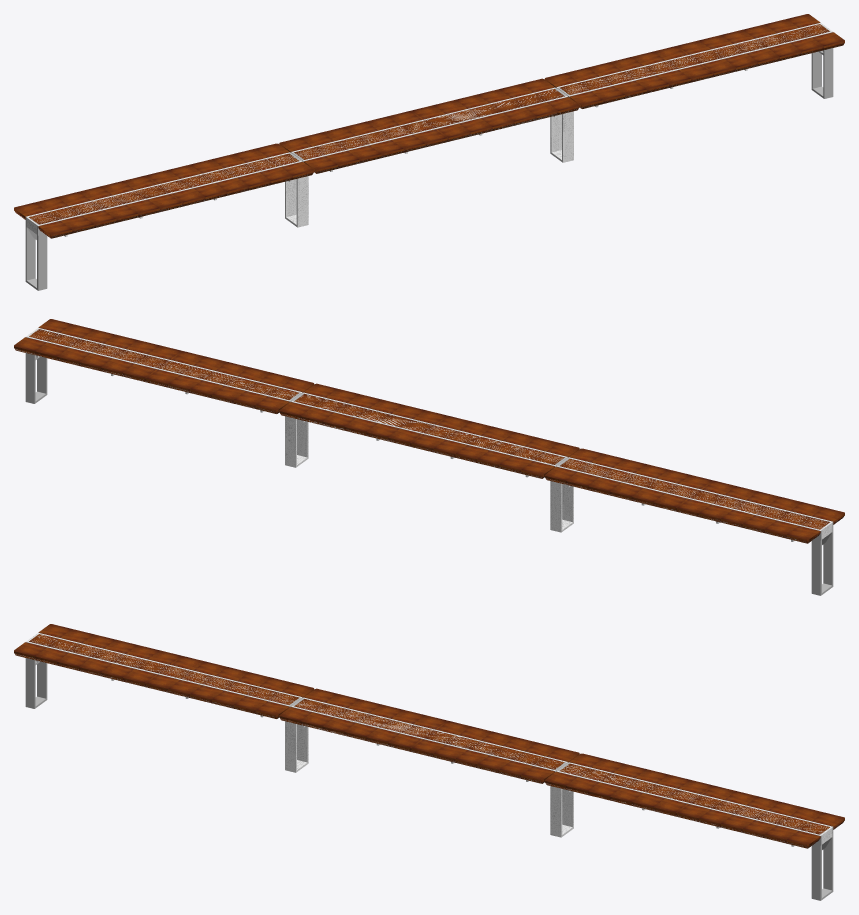
3 renders of one model, top to bottom at view 1: azimuth 30°, elevation 25°; view 2: azimuth 150°, elevation 25°; view 3: azimuth 330°, elevation 25°, orthographic.
Visible parts, largest first — view 1: mesh2_mesh2-geometry, mesh1_mesh1-geometry, mesh15_mesh15-geometry, mesh3_mesh3-geometry, mesh14_mesh14-geometry, mesh10_mesh10-geometry, mesh11_mesh11-geometry, mesh17_mesh17-geometry, mesh16_mesh16-geometry, mesh9_mesh9-geometry, mesh7_mesh7-geometry, mesh13_mesh13-geometry; view 2: mesh1_mesh1-geometry, mesh2_mesh2-geometry, mesh15_mesh15-geometry, mesh3_mesh3-geometry, mesh14_mesh14-geometry, mesh10_mesh10-geometry, mesh11_mesh11-geometry, mesh17_mesh17-geometry, mesh16_mesh16-geometry, mesh9_mesh9-geometry, mesh7_mesh7-geometry, mesh13_mesh13-geometry; view 3: mesh1_mesh1-geometry, mesh2_mesh2-geometry, mesh15_mesh15-geometry, mesh3_mesh3-geometry, mesh14_mesh14-geometry, mesh10_mesh10-geometry, mesh16_mesh16-geometry, mesh17_mesh17-geometry, mesh11_mesh11-geometry, mesh13_mesh13-geometry, mesh9_mesh9-geometry, mesh7_mesh7-geometry.
Boxes of the visible parts, x1,y1,x2,y2 form: mesh2_mesh2-geometry: [38, 14, 820, 238]; mesh1_mesh1-geometry: [14, 32, 844, 219]; mesh15_mesh15-geometry: [294, 55, 700, 159]; mesh3_mesh3-geometry: [285, 111, 573, 227]; mesh14_mesh14-geometry: [291, 22, 832, 161]; mesh10_mesh10-geometry: [158, 153, 298, 192]; mesh11_mesh11-geometry: [29, 185, 168, 224]; mesh17_mesh17-geometry: [425, 89, 564, 127]; mesh16_mesh16-geometry: [691, 24, 829, 62]; mesh9_mesh9-geometry: [25, 227, 47, 290]; mesh7_mesh7-geometry: [25, 152, 302, 235]; mesh13_mesh13-geometry: [811, 48, 833, 98]; mesh1_mesh1-geometry: [38, 319, 820, 543]; mesh2_mesh2-geometry: [14, 337, 844, 524]; mesh15_mesh15-geometry: [158, 360, 564, 464]; mesh3_mesh3-geometry: [285, 416, 573, 532]; mesh14_mesh14-geometry: [26, 327, 567, 466]; mesh10_mesh10-geometry: [560, 458, 699, 497]; mesh11_mesh11-geometry: [691, 490, 829, 529]; mesh17_mesh17-geometry: [294, 394, 433, 432]; mesh16_mesh16-geometry: [29, 329, 167, 367]; mesh9_mesh9-geometry: [811, 532, 833, 595]; mesh7_mesh7-geometry: [556, 457, 833, 540]; mesh13_mesh13-geometry: [25, 353, 47, 403]; mesh1_mesh1-geometry: [38, 624, 820, 848]; mesh2_mesh2-geometry: [14, 642, 844, 829]; mesh15_mesh15-geometry: [294, 699, 700, 802]; mesh3_mesh3-geometry: [285, 721, 573, 837]; mesh14_mesh14-geometry: [291, 697, 833, 845]; mesh10_mesh10-geometry: [158, 665, 298, 704]; mesh16_mesh16-geometry: [691, 795, 829, 834]; mesh17_mesh17-geometry: [425, 731, 564, 769]; mesh11_mesh11-geometry: [29, 634, 167, 672]; mesh13_mesh13-geometry: [811, 837, 833, 900]; mesh9_mesh9-geometry: [25, 658, 47, 708]; mesh7_mesh7-geometry: [26, 632, 302, 707].
Bounding box in the file's own units: 0.9937 × 0.0776 × 0.0809.
